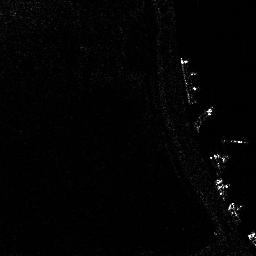ship: (194, 104, 213, 130)
